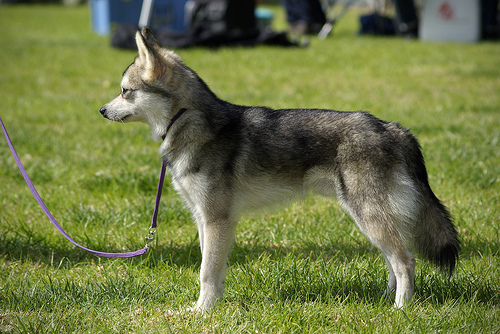dog: (99, 25, 464, 316)
